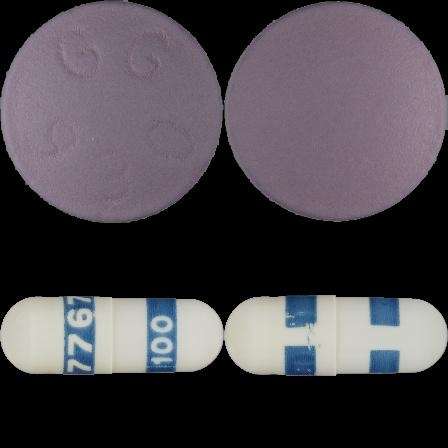21695-018: (0, 0, 224, 224)
